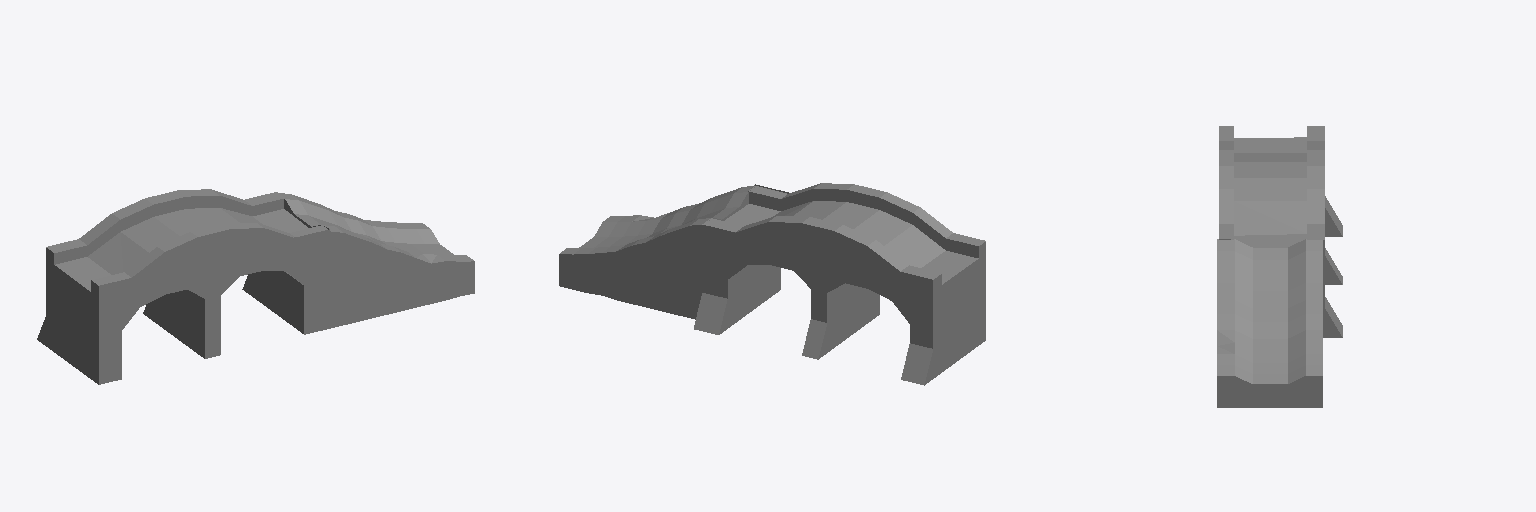
File: bruecke.obj
The picture shows the model from 3 angles: view 1: azimuth 30°, elevation 25°; view 2: azimuth 150°, elevation 25°; view 3: azimuth 270°, elevation 25°; orthographic projection.
Visible parts, largest first — view 1: Box001, Box006; view 2: Box001, Box006; view 3: Box006, Box001.
Boxes of the visible parts, box(x1,y1,x2,y2) form: Box001: box(37, 189, 329, 384); Box006: box(279, 193, 474, 328); Box001: box(694, 183, 985, 385); Box006: box(559, 186, 754, 319); Box006: box(1217, 239, 1322, 407); Box001: box(1219, 126, 1342, 337).
Size of the model in its own units: 162 by 51.83 by 46.86.